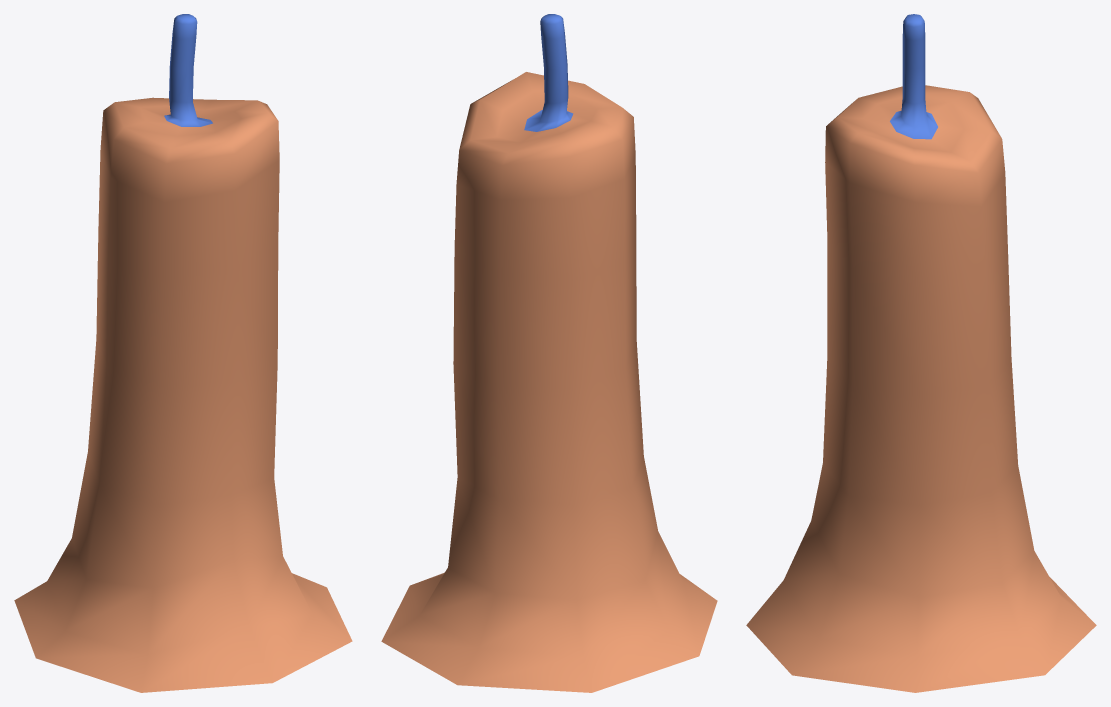
The model's file is Vela.fbx.
The picture shows the model from 3 angles, left to right: view 1: azimuth 30°, elevation 25°; view 2: azimuth 150°, elevation 25°; view 3: azimuth 270°, elevation 25°; orthographic projection.
Visible parts, largest first — view 1: Cube; view 2: Cube; view 3: Cube.
Part boxes in pixels (x1=…): Cube: x1=14, y1=14, x2=352, y2=692; Cube: x1=381, y1=14, x2=717, y2=692; Cube: x1=746, y1=14, x2=1096, y2=692.
Size of the model in its own units: 343 by 683 by 358.
